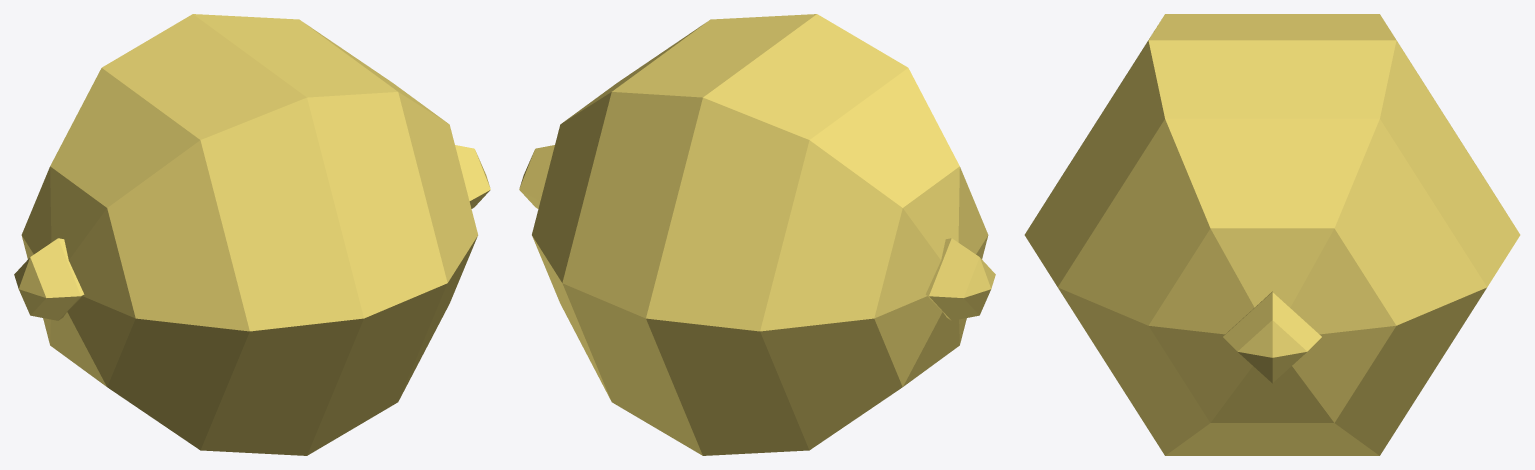
File: Lemon_Model.fbx
The picture shows the model from 3 angles, left to right: view 1: azimuth 30°, elevation 25°; view 2: azimuth 150°, elevation 25°; view 3: azimuth 270°, elevation 25°; orthographic projection. The views are drawn at different scales.
Parts seen in each view (by area): view 1: Body, Tip, pasted__pSphere2; view 2: Body, Tip, pasted__pSphere2; view 3: Body, pasted__pSphere2.
Part boxes in pixels (left/top/right/bottom): Body: left=21, top=14, right=477, bottom=455; Tip: left=14, top=238, right=84, bottom=320; pasted__pSphere2: left=455, top=145, right=490, bottom=208; Body: left=532, top=14, right=988, bottom=455; Tip: left=925, top=238, right=995, bottom=320; pasted__pSphere2: left=519, top=145, right=554, bottom=208; Body: left=1024, top=14, right=1520, bottom=455; pasted__pSphere2: left=1223, top=291, right=1321, bottom=383.
Size of the model in its own units: 7.09 by 5.2 by 6.
